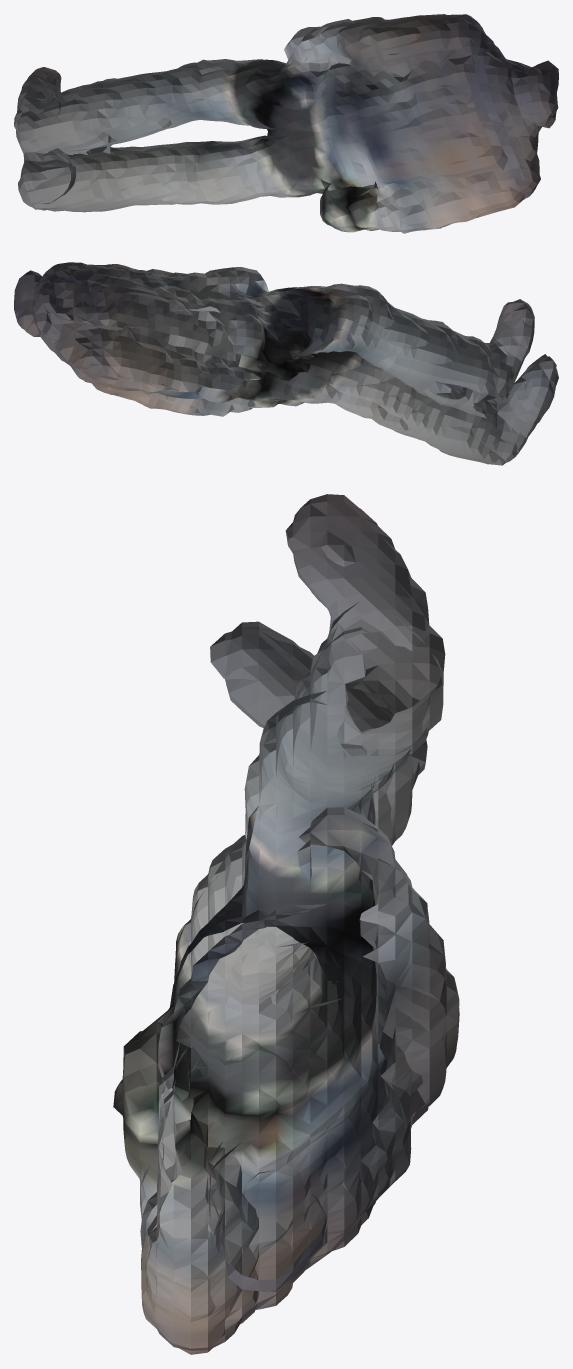
3 views of the same model, one above another, from view 1: azimuth 30°, elevation 25°; view 2: azimuth 150°, elevation 25°; view 3: azimuth 270°, elevation 25° (orthographic). The views are drawn at different scales.
Parts seen in each view (by area): view 1: world; view 2: world; view 3: world.
Part boxes in pixels (left/top/right/bottom): world: left=14, top=14, right=558, bottom=233; world: left=14, top=262, right=558, bottom=465; world: left=113, top=494, right=459, bottom=1354.
Bounding box in the file's own units: 0.9569 × 0.3921 × 0.2783.
